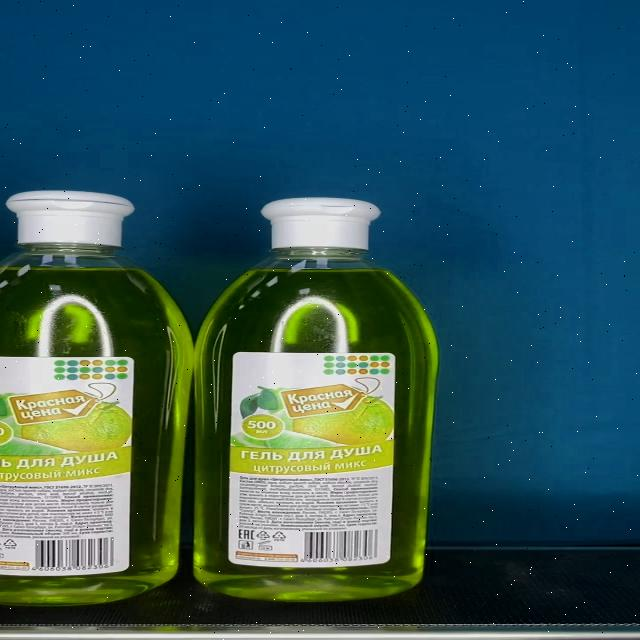Bottle: (196, 196, 441, 601), (0, 190, 193, 605)
Cap: (8, 191, 136, 247), (262, 196, 383, 249)
